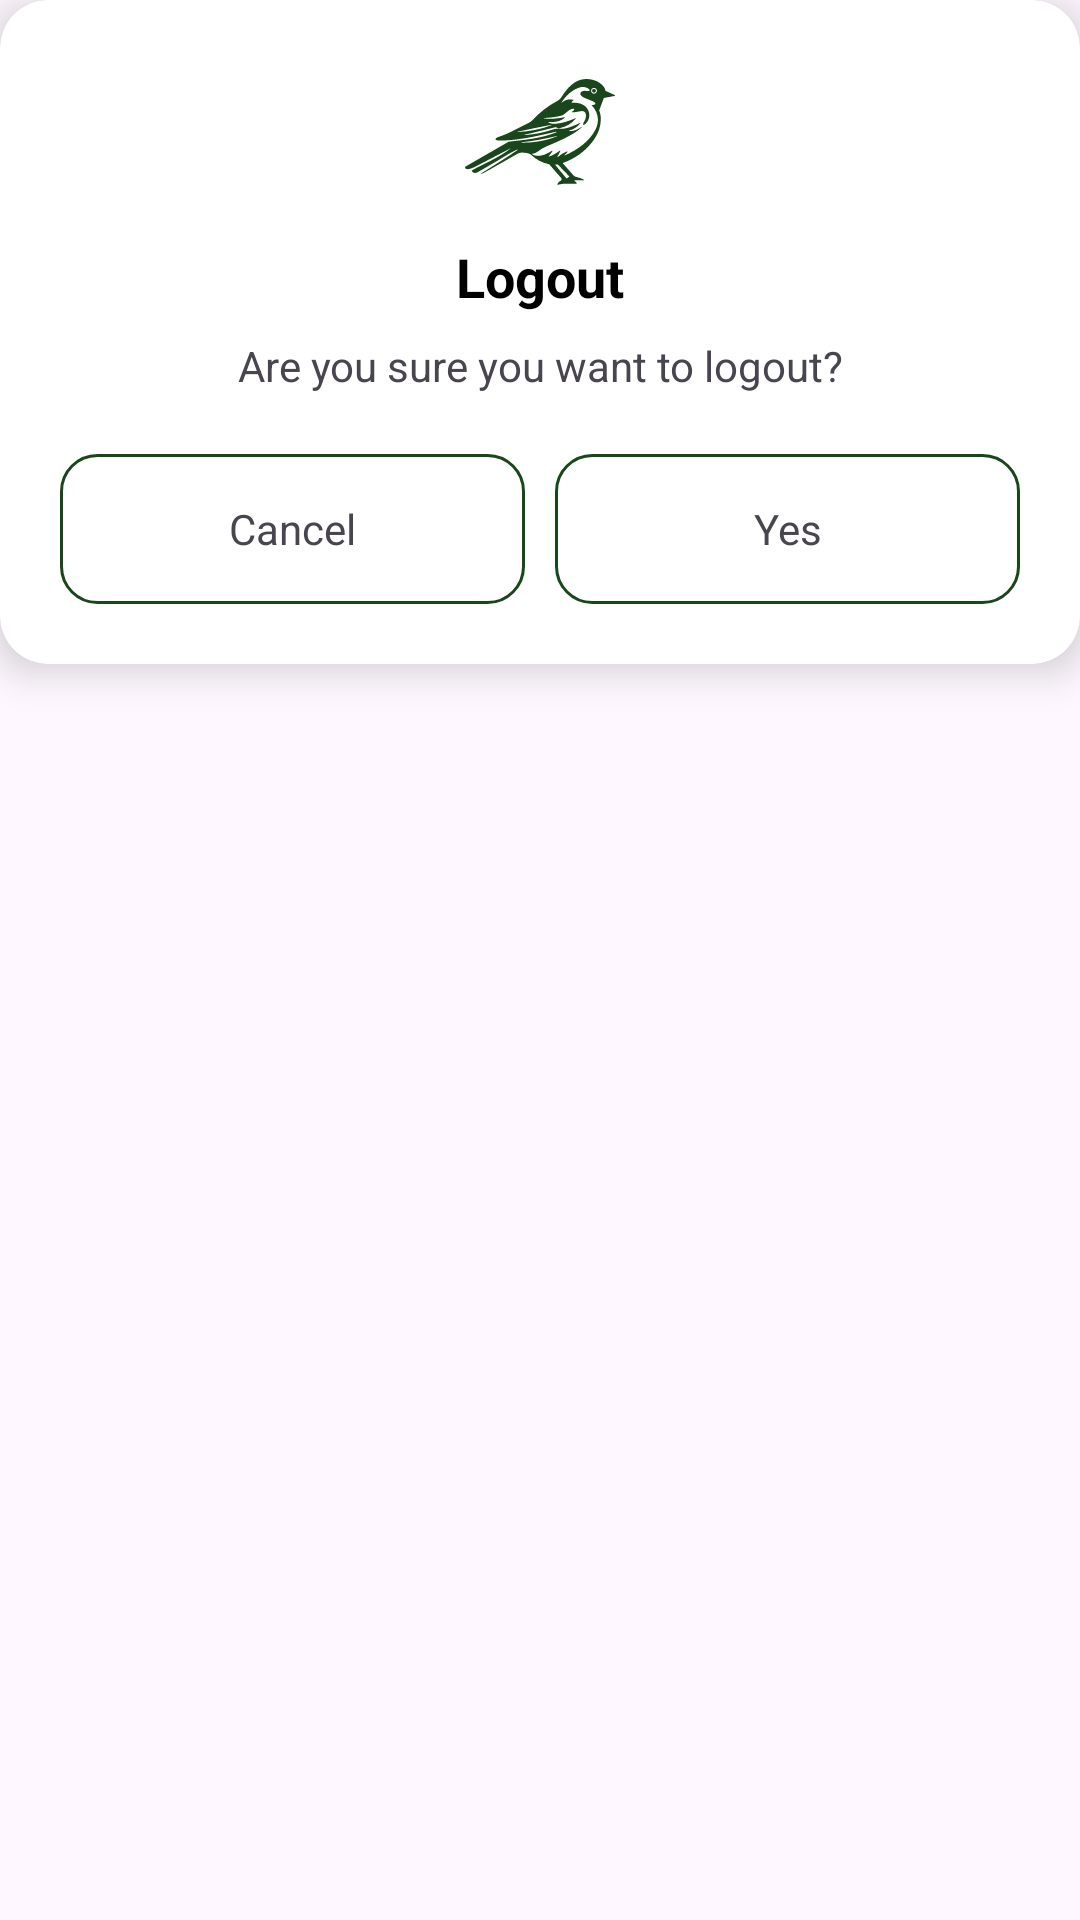

Named icons in this screenshot (1080 × 1920) and their bounding boxes, (x1, y1, x2, y2):
birds: (465, 79, 615, 185)
